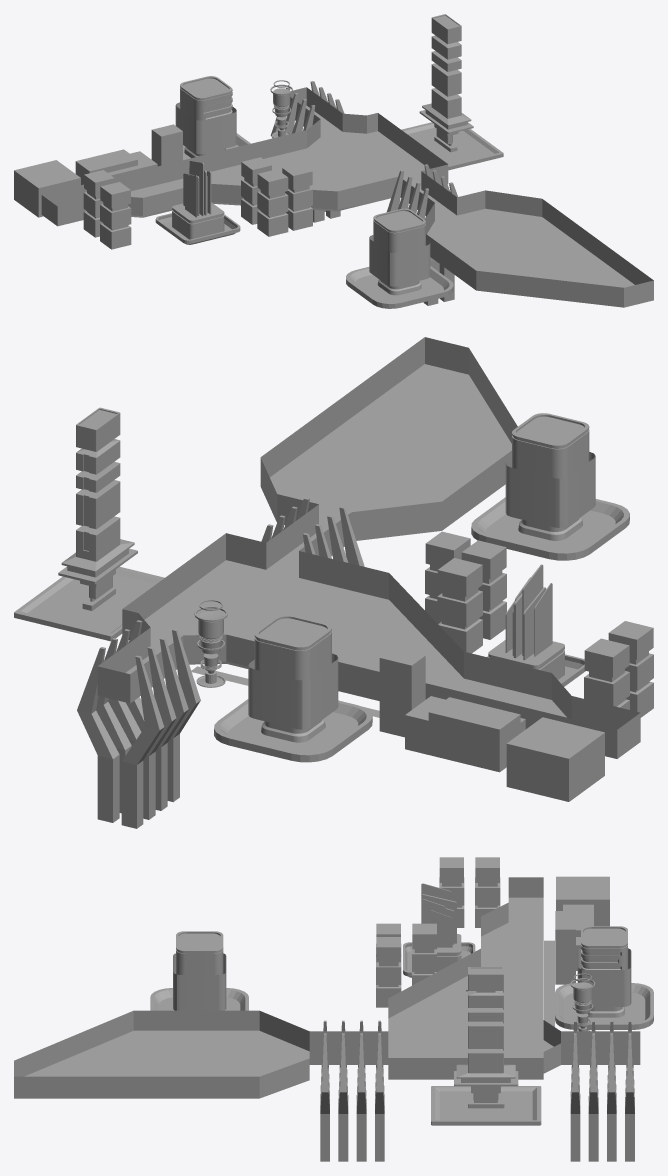
File: environment-01.fbx
3 renders of one model, top to bottom at view 1: azimuth 30°, elevation 25°; view 2: azimuth 150°, elevation 25°; view 3: azimuth 270°, elevation 25°, orthographic. The views are drawn at different scales.
Parts seen in each view (by area): view 1: pCube2, pCube8, bulding1, pCube9, bulding, pCube13, digital_panel1, digital_panel, pCube17, pCube16, pCube18, pCube3 (+4 smaller); view 2: pCube2, pCube8, bulding, bulding1, pCube13, pCube3, pCube9, digital_panel, digital_panel1, pCube5, pCube4, pCube35 (+12 smaller); view 3: pCube2, pCube8, bulding, bulding1, pCube9, digital_panel1, pCube13, digital_panel, pCube18, pCube15, pCube5, pCube4 (+12 smaller).
Part boxes in pixels (box(x1,y1,x2,y2)): pCube2: box(41, 87, 653, 307); pCube8: box(401, 14, 503, 170); bulding1: box(346, 208, 453, 308); pCube9: box(155, 160, 240, 244); bulding: box(180, 76, 250, 160); pCube13: box(14, 160, 80, 217); digital_panel1: box(369, 235, 430, 286); digital_panel: box(175, 102, 236, 154); pCube17: box(257, 169, 288, 236); pCube16: box(100, 182, 131, 249); pCube18: box(282, 163, 312, 230); pCube3: box(75, 149, 157, 184); pCube2: box(97, 337, 640, 758); pCube8: box(14, 407, 164, 641); bulding: box(214, 615, 372, 762); bulding1: box(471, 413, 629, 560); pCube13: box(506, 717, 604, 801); pCube3: box(405, 696, 525, 772); pCube9: box(487, 564, 585, 686); digital_panel: box(248, 653, 338, 729); digital_panel1: box(505, 452, 595, 527); pCube5: box(437, 558, 482, 653); pCube4: box(379, 647, 425, 737); pCube35: box(77, 647, 119, 822); pCube2: box(14, 877, 640, 1098); pCube8: box(431, 967, 541, 1125); bulding: box(555, 926, 653, 1029); bulding1: box(150, 931, 248, 1010); pCube9: box(403, 883, 475, 977); digital_panel1: box(173, 953, 226, 1010); pCube13: box(556, 876, 609, 926); digital_panel: box(577, 948, 631, 1006); pCube18: box(376, 937, 401, 1007); pCube15: box(475, 857, 500, 927); pCube5: box(412, 923, 436, 985); pCube4: box(555, 918, 575, 984).
Size of the model in its own units: 9033 by 4128 by 10559.
3 materials, 1 textured.
